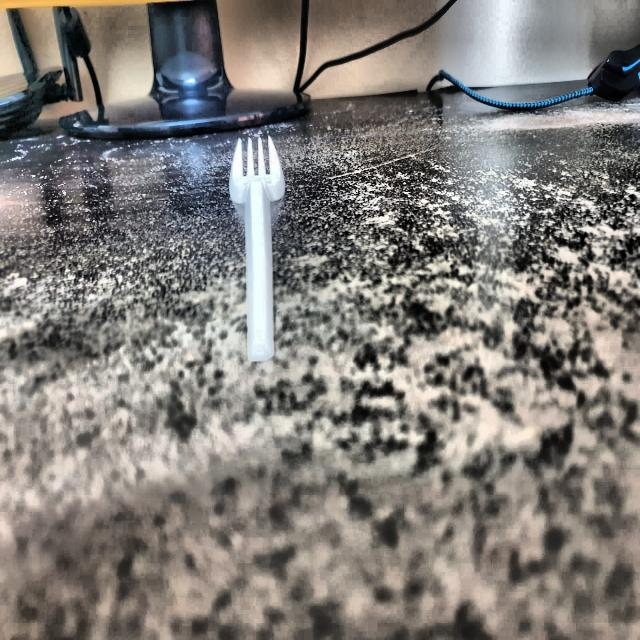plastic utensil: (230, 135, 286, 355)
